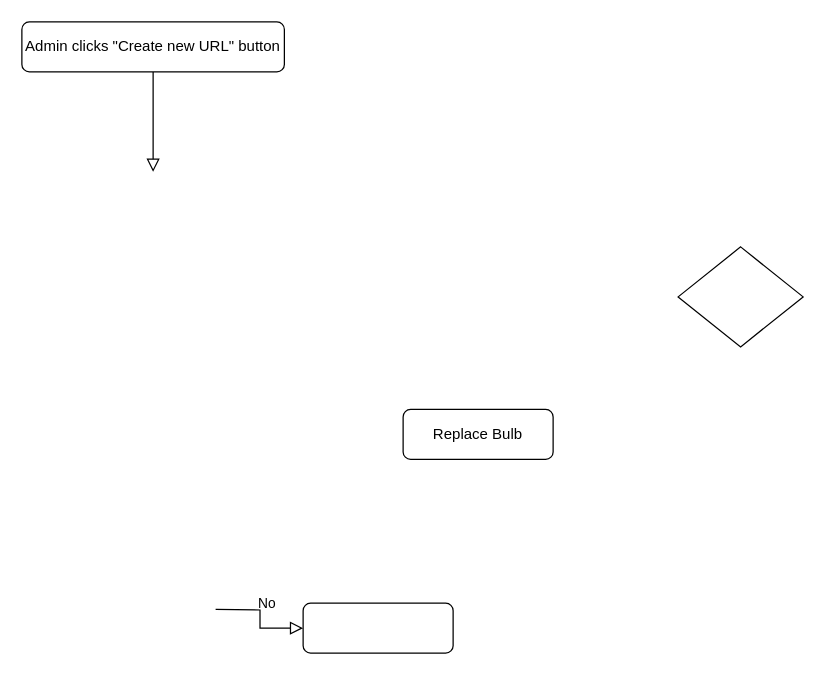
Image size: 825x675. Some labels were removed from this diagram. Each missing label, with the centre of its shape:
"Lamp plugged in?" belongs at (x=740, y=296).
"Repair Lamp" belongs at (x=377, y=627).
